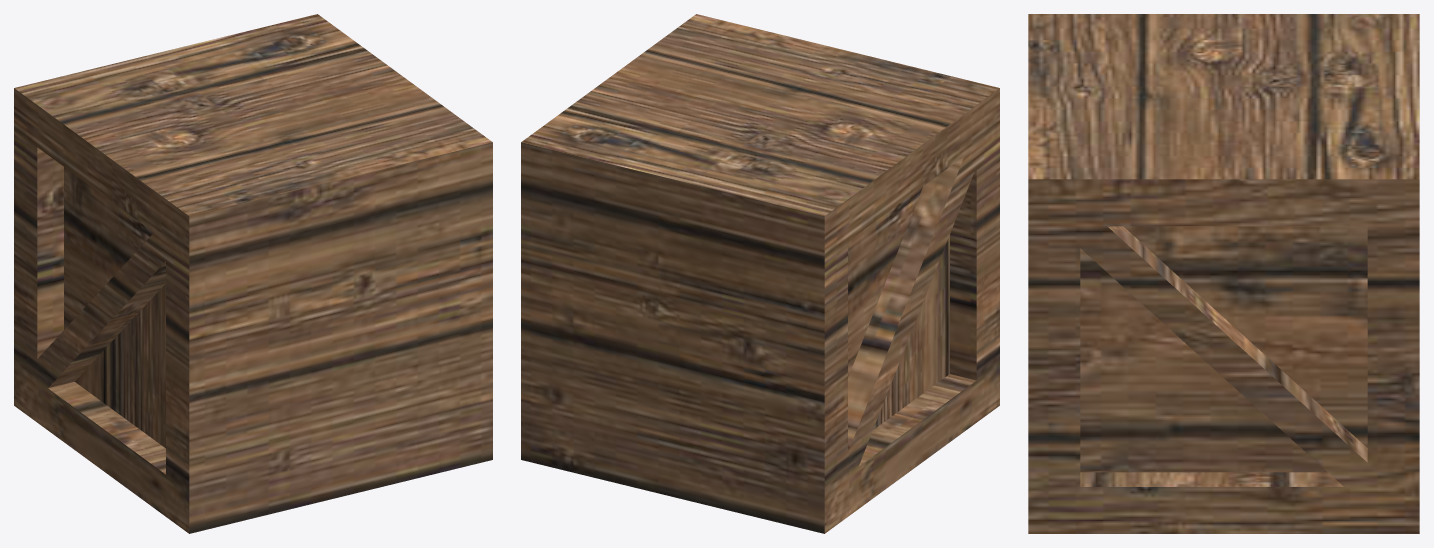
The model's file is Crate.obj.
3 renders of one model, left to right at view 1: azimuth 30°, elevation 25°; view 2: azimuth 150°, elevation 25°; view 3: azimuth 270°, elevation 25°, orthographic. The views are drawn at different scales.
Visible parts, largest first — view 1: Cube_Cube.001; view 2: Cube_Cube.001; view 3: Cube_Cube.001.
Boxes of the visible parts, left/top/right/bottom form: Cube_Cube.001: left=14, top=14, right=492, bottom=533; Cube_Cube.001: left=521, top=14, right=999, bottom=533; Cube_Cube.001: left=1028, top=14, right=1419, bottom=533.
Bounding box in the file's own units: 2 × 2 × 2.
